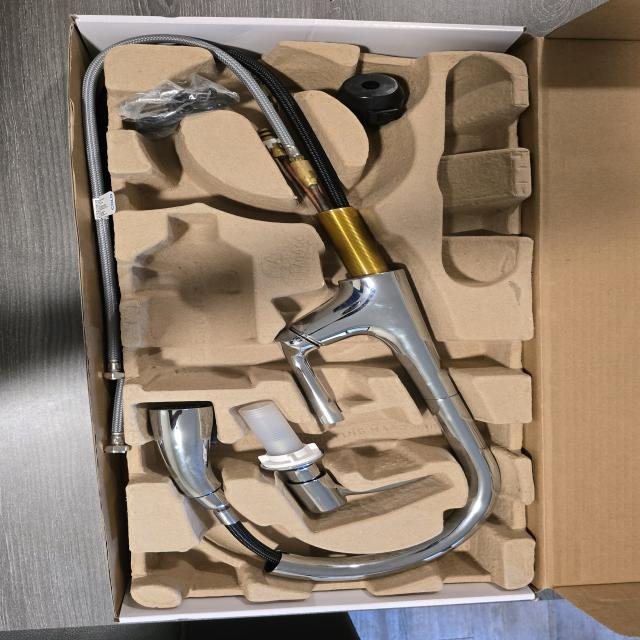1: (144, 40, 503, 582)
2: (235, 401, 428, 515)
3m: (136, 215, 253, 390)
4m: (439, 52, 519, 289)
5: (337, 74, 407, 127)
6m: (125, 148, 246, 215)
7: (118, 70, 241, 141)
